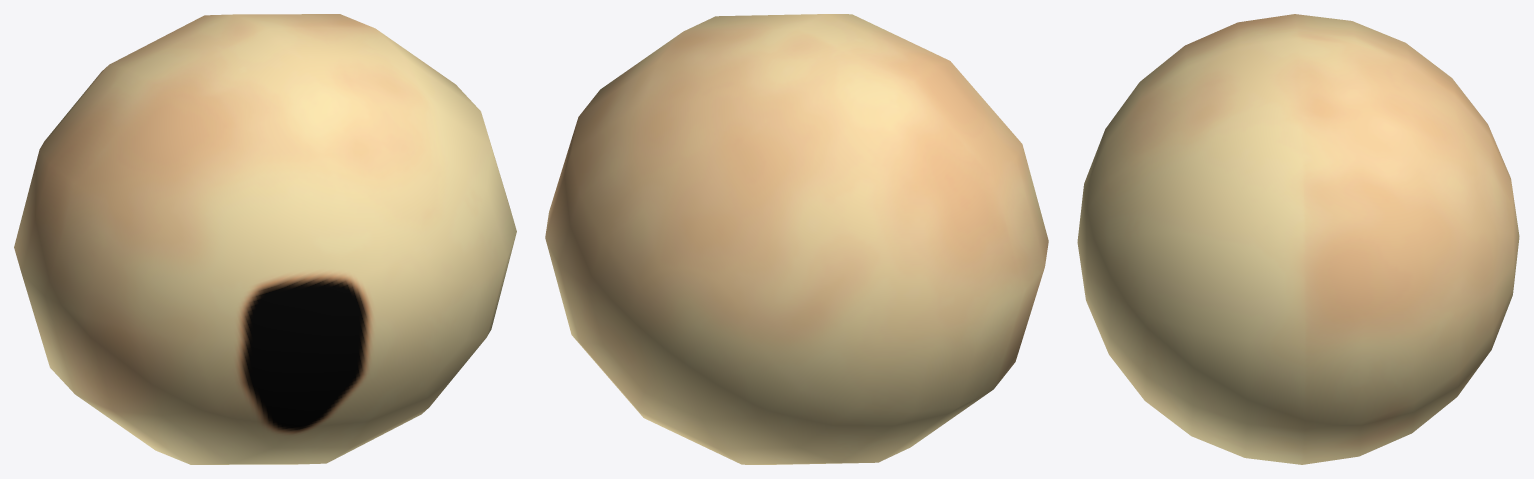
The model's file is Eyeball 1.fbx.
3 renders of one model, left to right at view 1: azimuth 30°, elevation 25°; view 2: azimuth 150°, elevation 25°; view 3: azimuth 270°, elevation 25°, orthographic. The views are drawn at different scales.
Parts seen in each view (by area): view 1: LeftEye1; view 2: LeftEye1; view 3: LeftEye1.
Part boxes in pixels (x1,y1,x2,y2): LeftEye1: (14,14,516,464); LeftEye1: (545,14,1048,464); LeftEye1: (1077,14,1519,464).
Bounding box in the file's own units: 0.4753 × 0.4275 × 0.4273.
